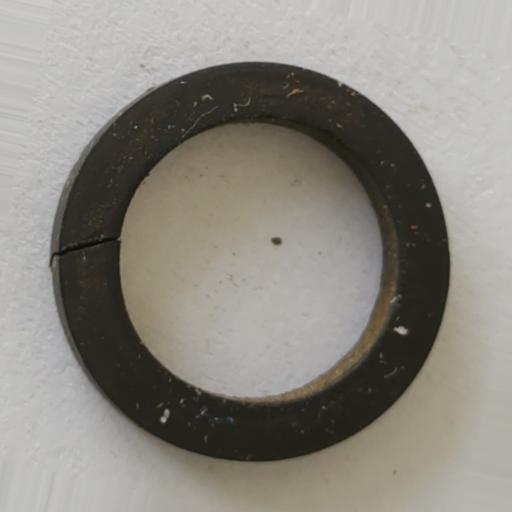defect: (56, 235, 119, 258)
